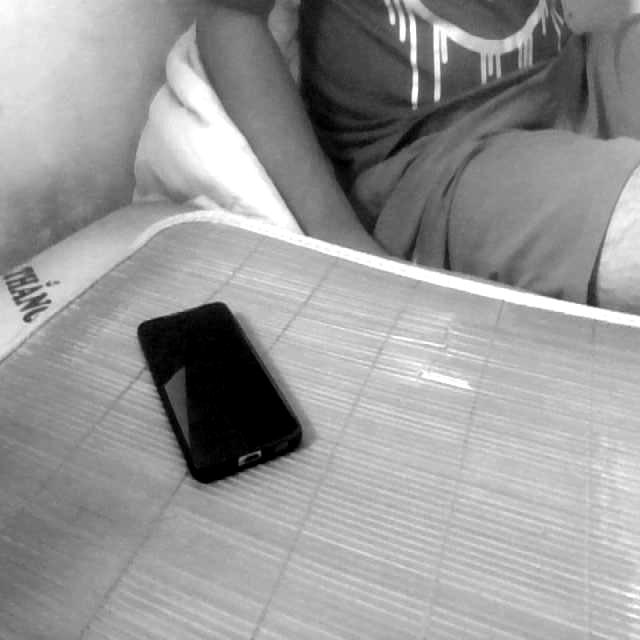phone: (123, 284, 314, 494)
